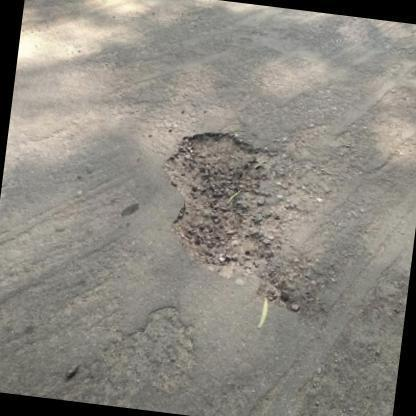pothole: (164, 129, 324, 316), (79, 302, 205, 409)
